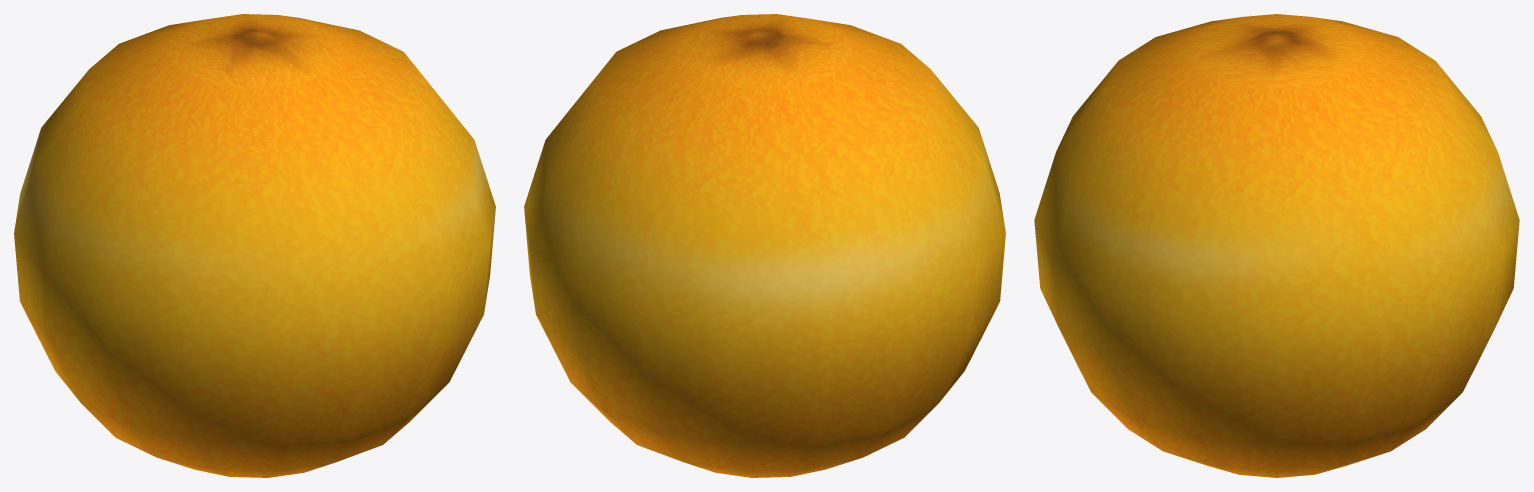
File: Orange.fbx
3 views of the same model, side by side, from view 1: azimuth 30°, elevation 25°; view 2: azimuth 150°, elevation 25°; view 3: azimuth 270°, elevation 25° (orthographic).
Parts seen in each view (by area): view 1: Orange; view 2: Orange; view 3: Orange.
Part boxes in pixels (x1,y1,x2,y2): Orange: (14, 14, 495, 477); Orange: (524, 14, 1005, 477); Orange: (1034, 14, 1519, 477).
Size of the model in its own units: 28.48 by 27.21 by 28.48.
1 material, 1 textured.
